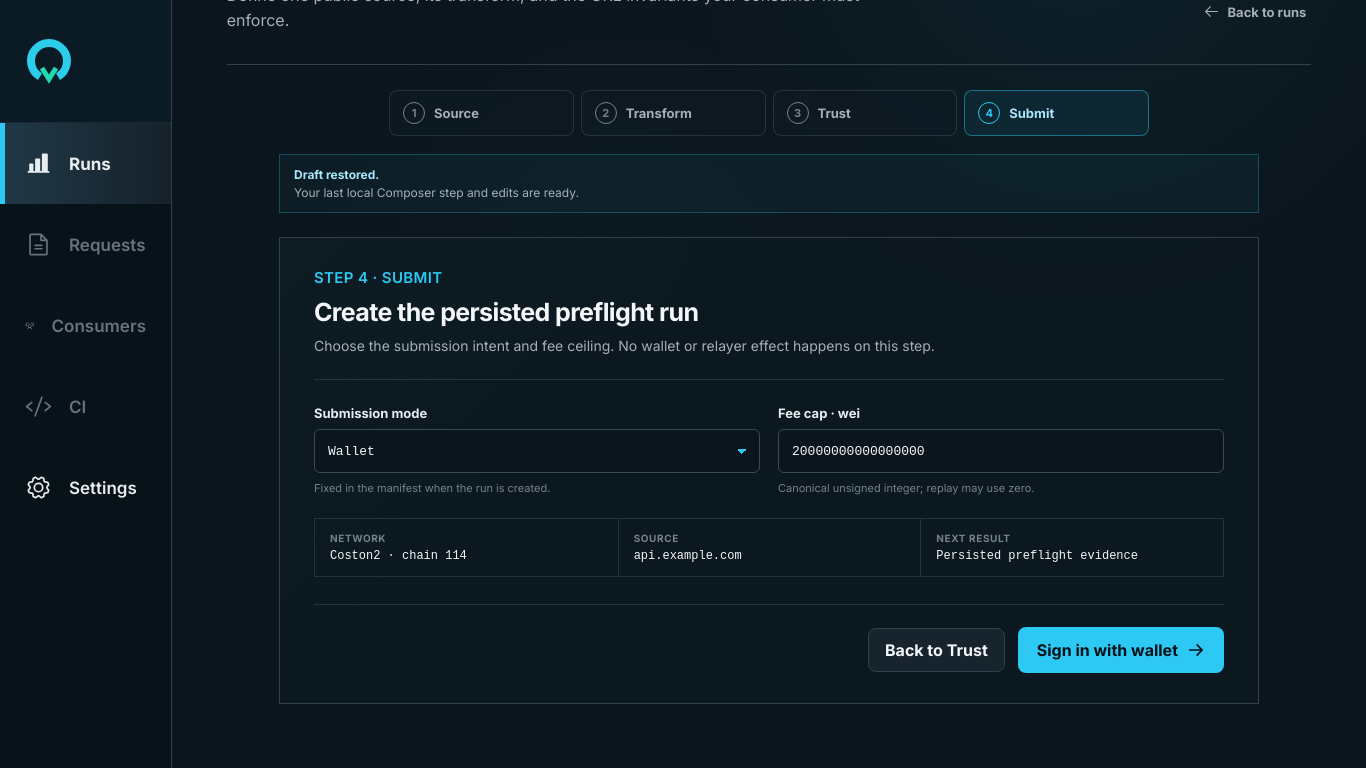
Test case: Slice 015B explicit Submit boundary › validates once before wallet sign-in without creating or losing the draft
(page scrolled)
Click the button "Sign in with wallet": point(1121, 650) [1018,627,1224,673]
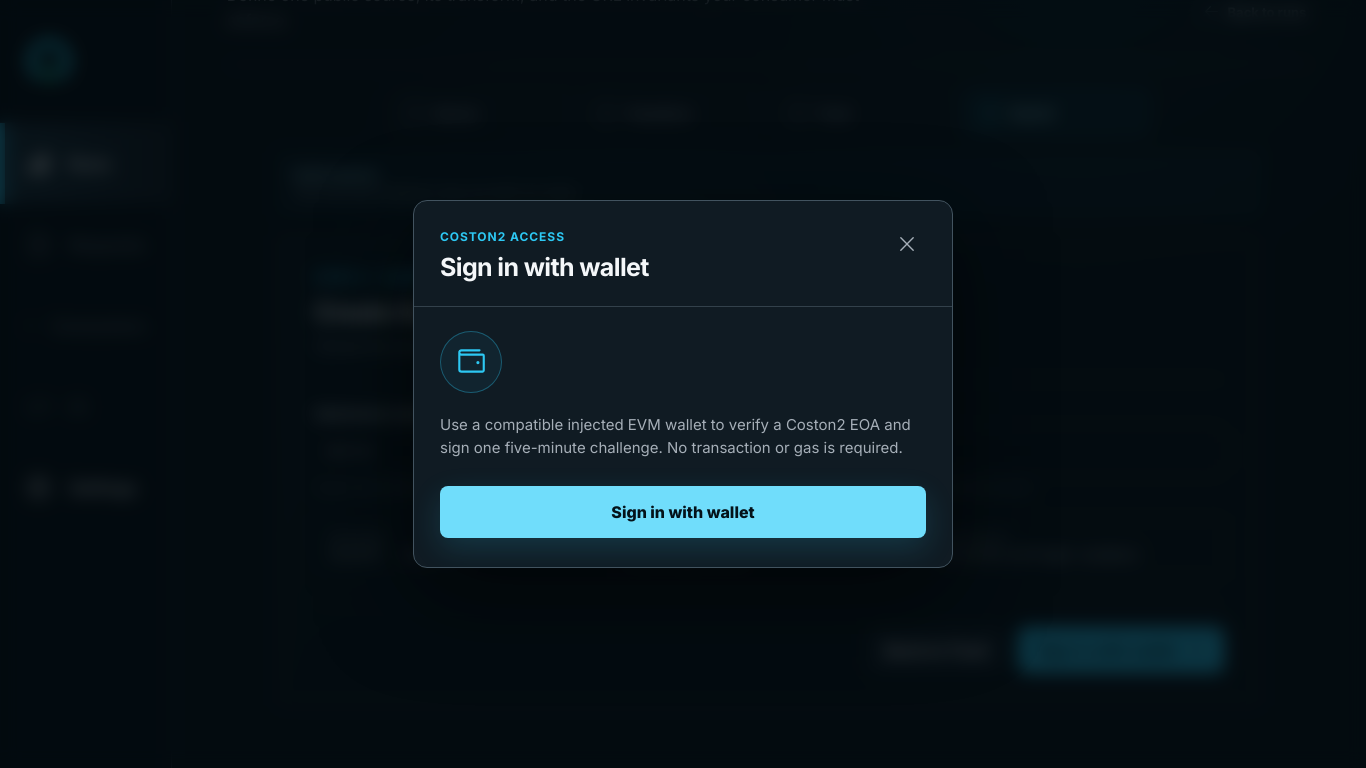
Result: the dialog "Sign in with wallet" is shown at [413,200,953,568]
